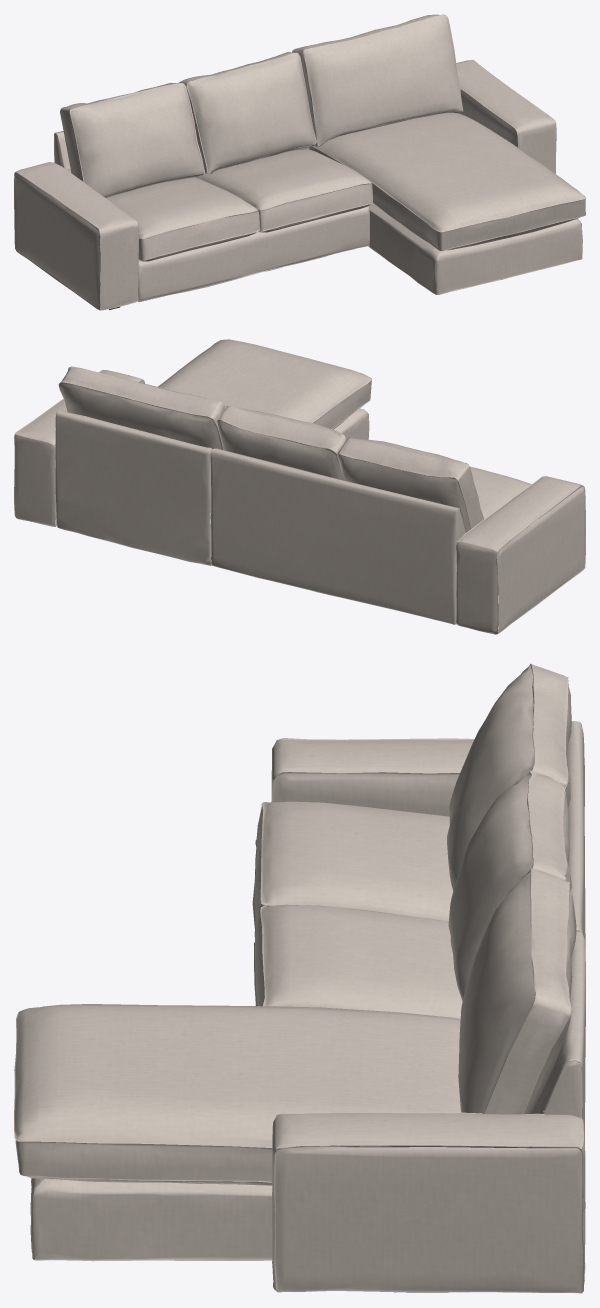
Rendered from kivik_sofa_3_osobowa_z_szezlongiem_79482840.glb.
The picture shows the model from 3 angles, top to bottom: view 1: azimuth 30°, elevation 25°; view 2: azimuth 150°, elevation 25°; view 3: azimuth 270°, elevation 25°; orthographic projection. The views are drawn at different scales.
Parts seen in each view (by area): view 1: kivik_sofa_3_osobowa_z_szezlongiem_79482840; view 2: kivik_sofa_3_osobowa_z_szezlongiem_79482840; view 3: kivik_sofa_3_osobowa_z_szezlongiem_79482840.
Part boxes in pixels (x1=…): kivik_sofa_3_osobowa_z_szezlongiem_79482840: x1=14, y1=14, x2=585, y2=310; kivik_sofa_3_osobowa_z_szezlongiem_79482840: x1=14, y1=339, x2=585, y2=634; kivik_sofa_3_osobowa_z_szezlongiem_79482840: x1=14, y1=663, x2=585, y2=1293.
Size of the model in its own units: 2.79 by 0.8668 by 1.64.
Materials: 1 (1 with a texture image).
